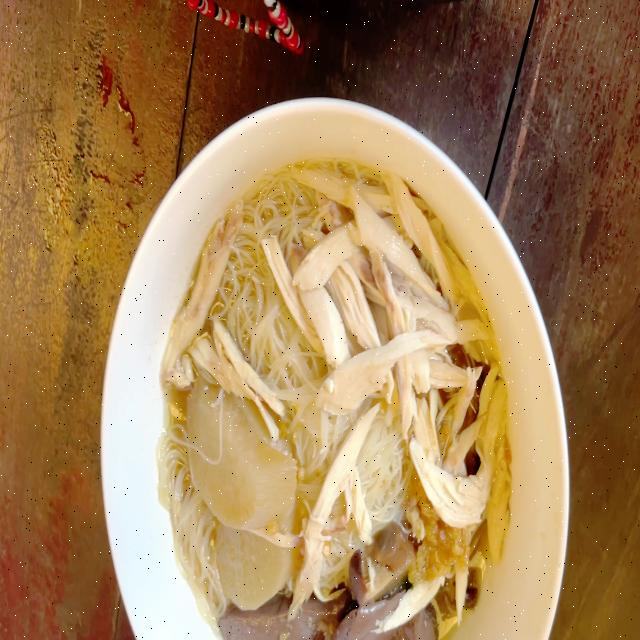boiled_chicken_blood_jelly: (224, 603, 443, 640)
chicken_shredded: (312, 171, 493, 493), (158, 198, 244, 394)
daikon_radish: (179, 370, 287, 537), (204, 524, 296, 602)
noodle: (142, 141, 523, 640)
